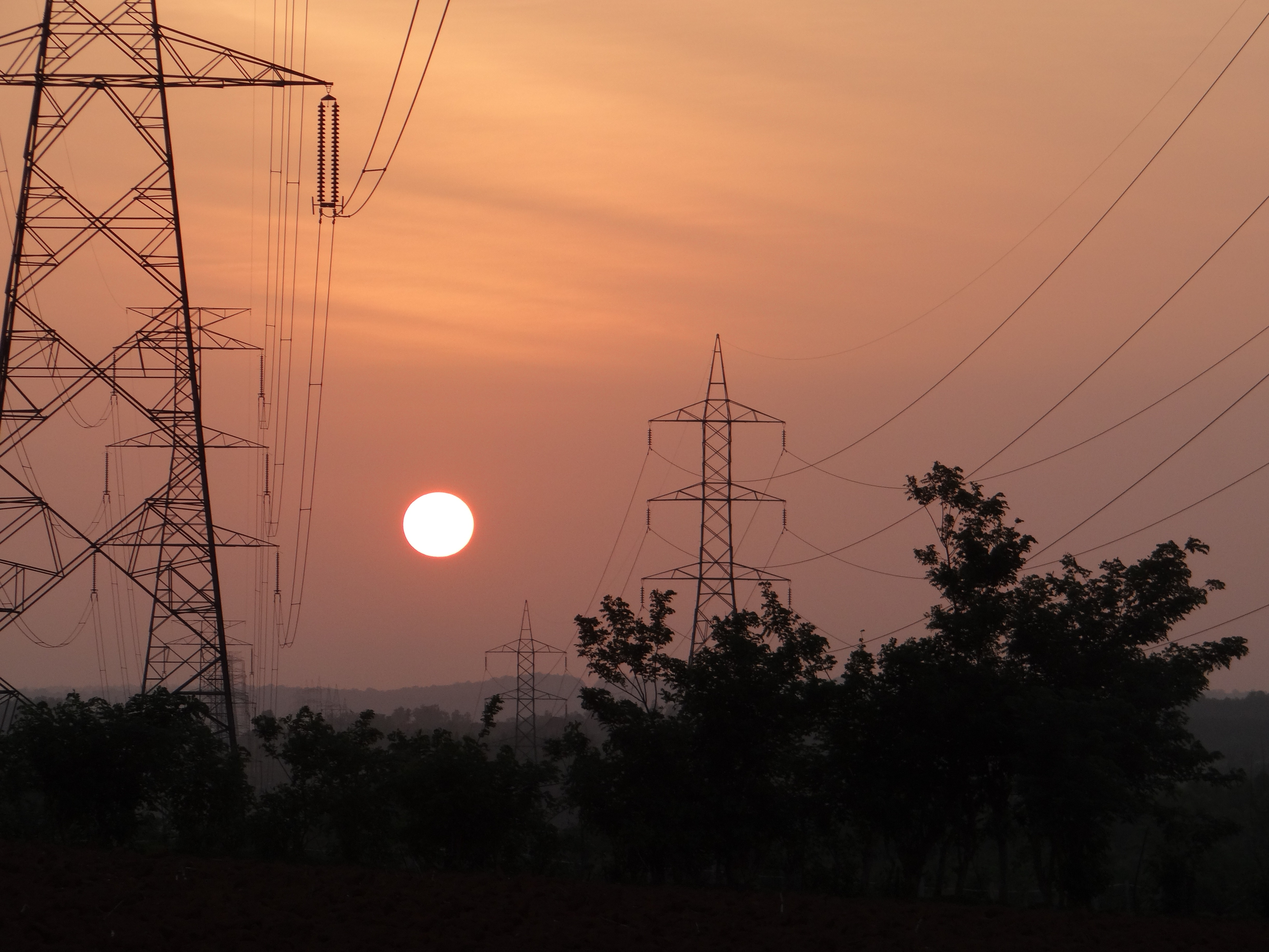insulator: (307, 84, 342, 221)
